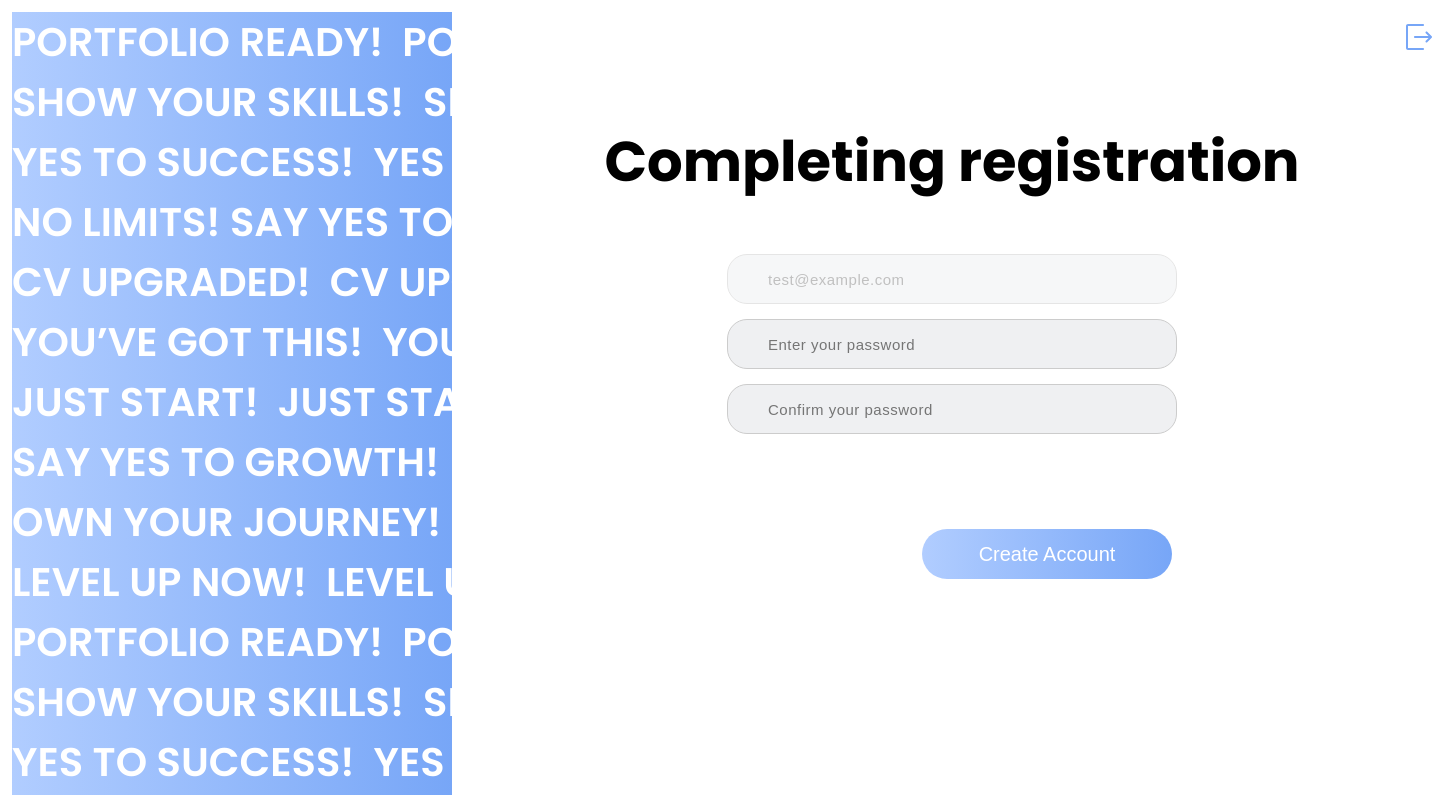
Test: Компонент Register › ошибка при регистрации с неверным паролем
Step 1. Type "password123" into the password field with placeholder "Enter your password" → [952, 344], box [727,319,1177,369]
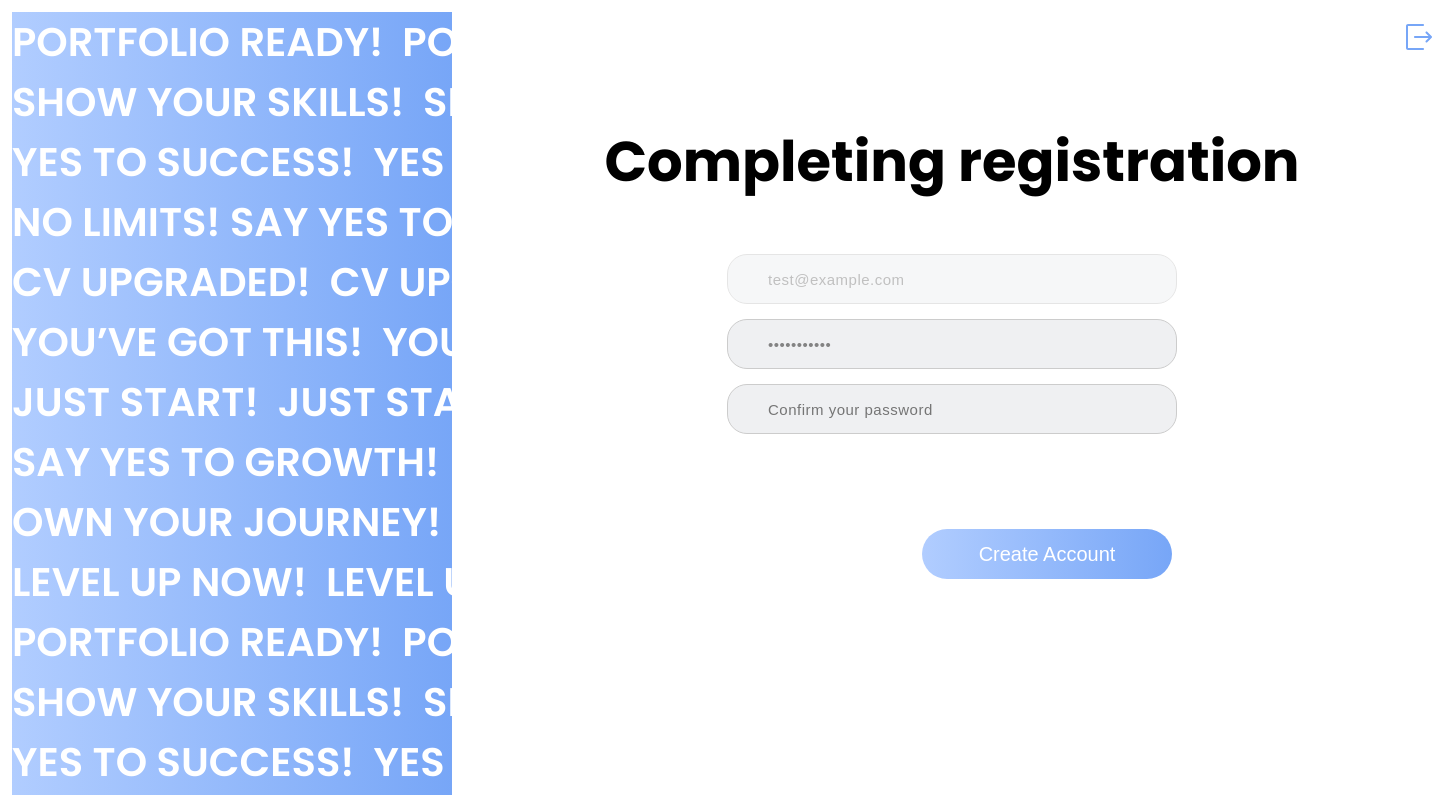
Step 2. Type "password1234" into the password field with placeholder "Confirm your password" → [952, 409], box [727,384,1177,434]
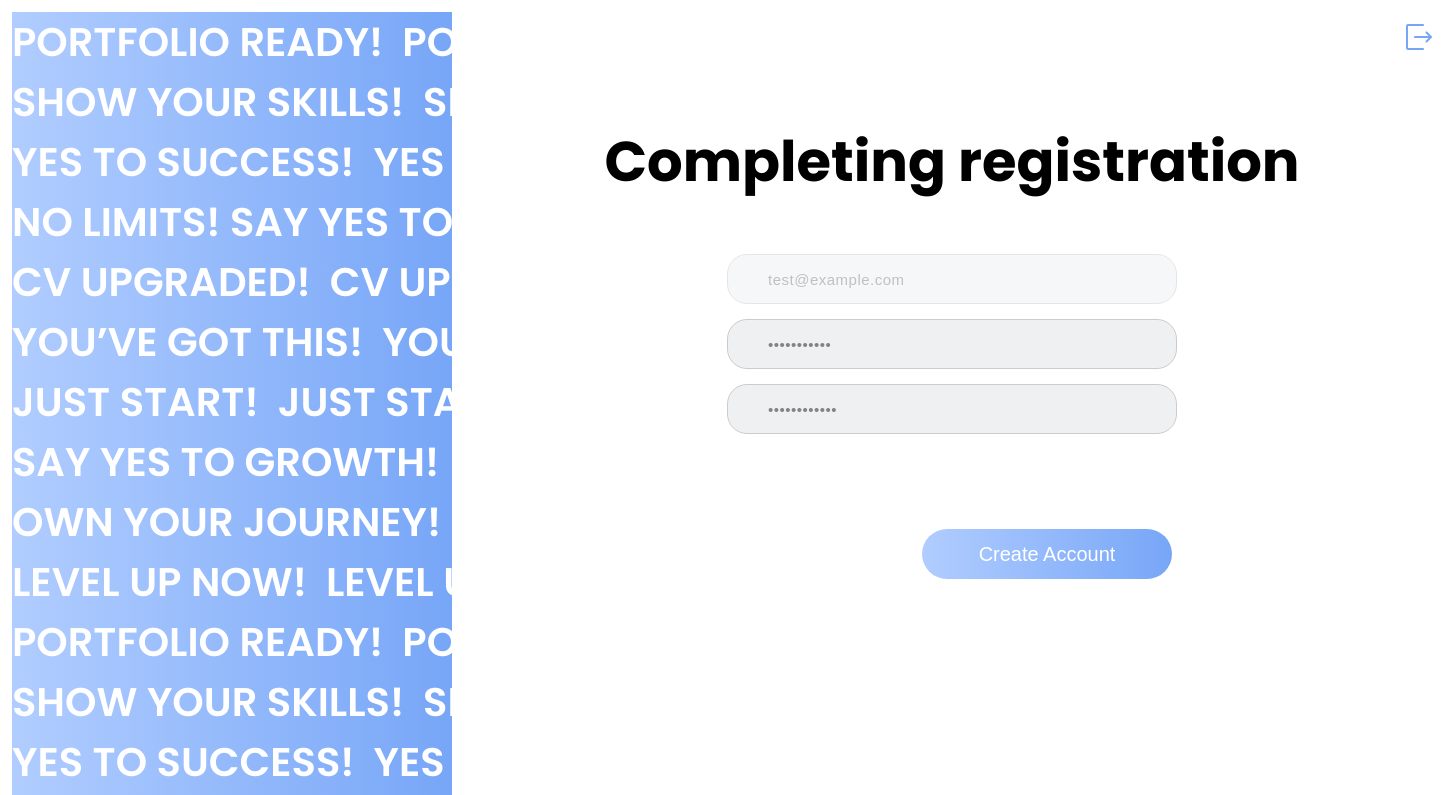
Step 3. Click the button "Create Account" → [1047, 554], box [922,529,1172,579]
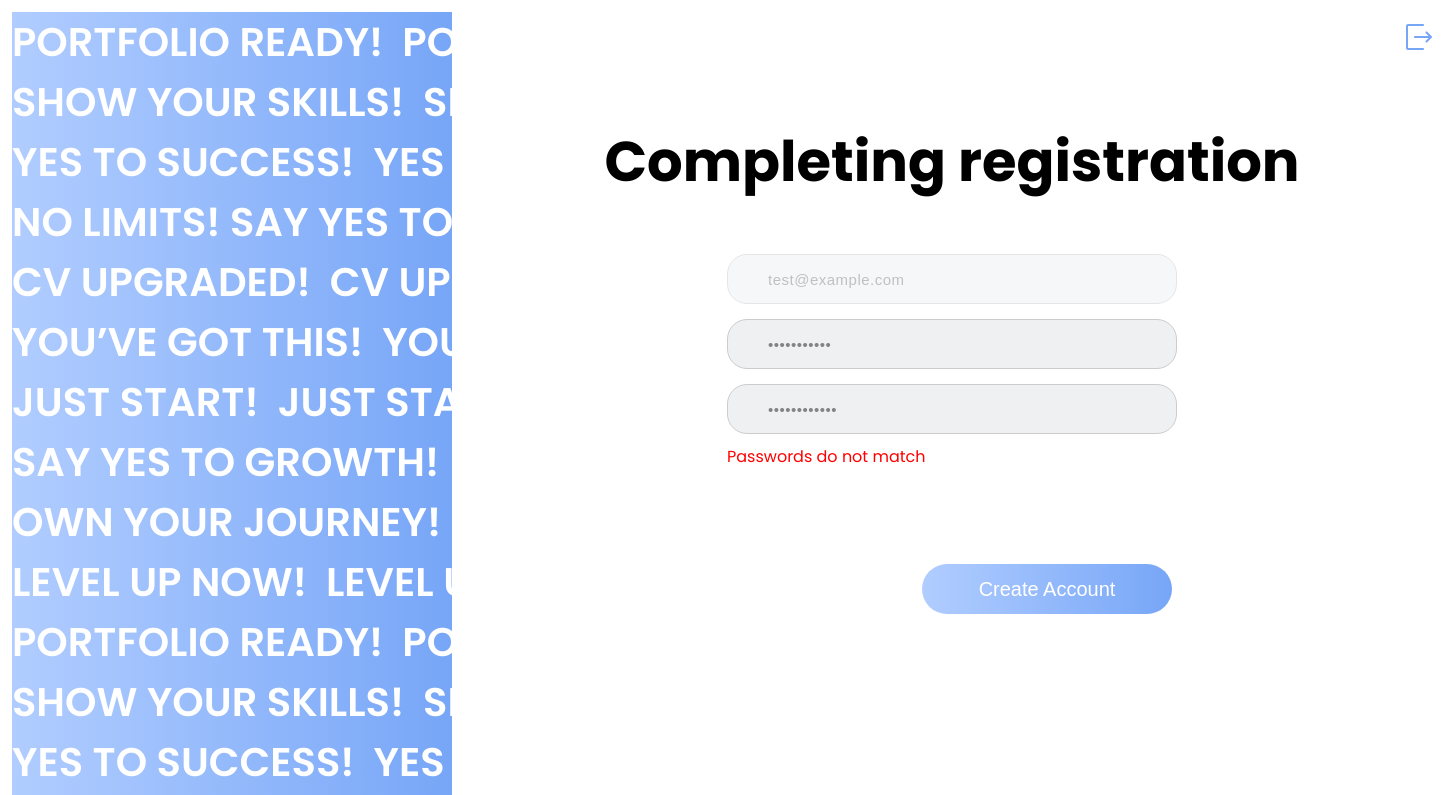
Expected: the text "Passwords do not match" is shown, [727,445,926,468]
